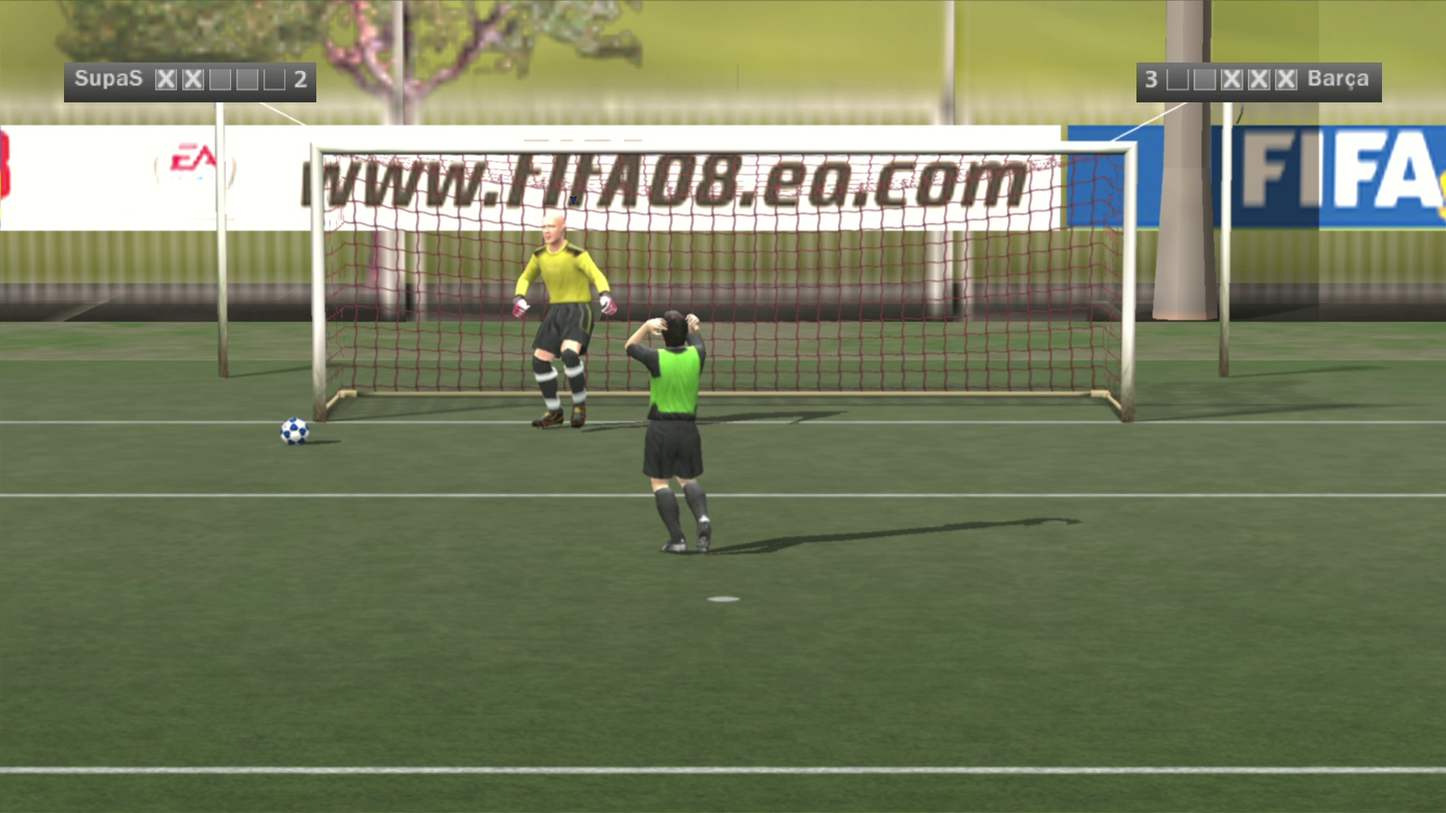ball: (262, 401, 298, 430)
goal_post: (0, 24, 722, 287)
keeper: (469, 92, 565, 317)
kicker: (573, 185, 672, 430)
